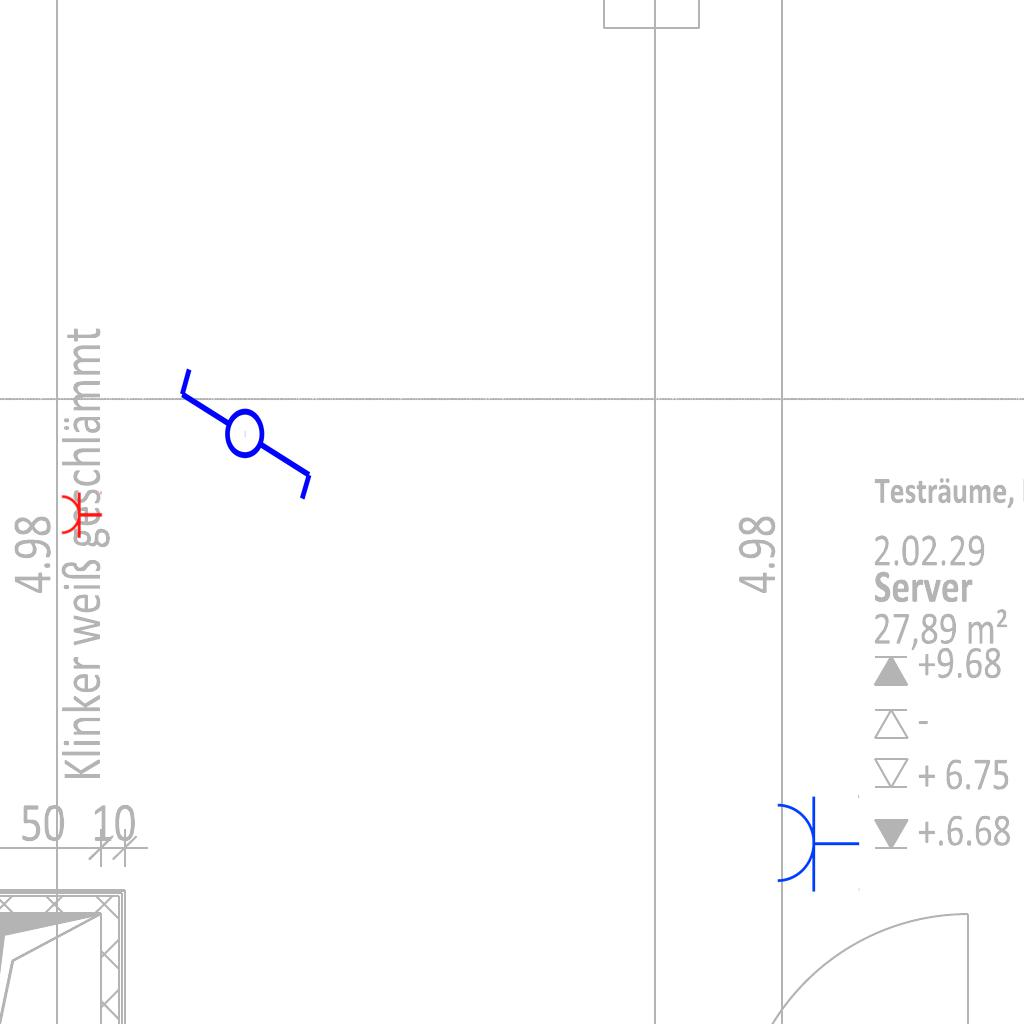Schukosteckdose_einfach: (773, 793, 860, 893), (60, 489, 103, 539)
Wechselschalter: (175, 347, 319, 504)
